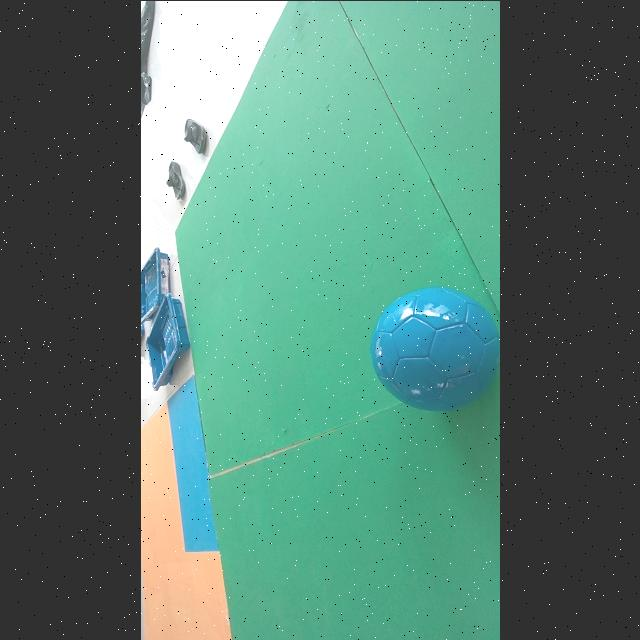B: (370, 287, 500, 409)
